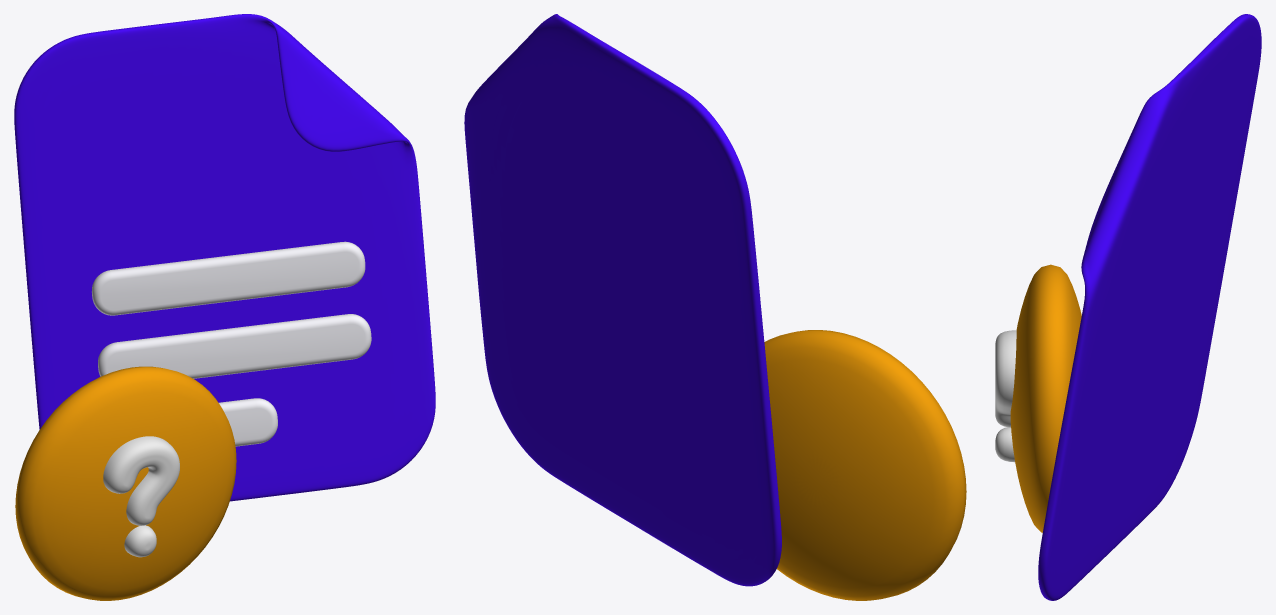
File: unknown-file-3d-animated-icon-488552950417.glb
3 views of the same model, side by side, from view 1: azimuth 30°, elevation 25°; view 2: azimuth 150°, elevation 25°; view 3: azimuth 270°, elevation 25° (orthographic). The views are drawn at different scales.
Visible parts, largest first — view 1: File Base.005, Icon Base.003, Text.007, Unknown Symbol; view 2: File Base.005, Icon Base.003; view 3: File Base.005, Icon Base.003, Unknown Symbol.
Boxes of the visible parts, x1,y1,x2,y2 form: File Base.005: [14, 14, 435, 501]; Icon Base.003: [15, 366, 236, 600]; Text.007: [92, 241, 371, 446]; Unknown Symbol: [103, 436, 179, 557]; File Base.005: [464, 14, 781, 586]; Icon Base.003: [764, 330, 966, 600]; File Base.005: [1038, 14, 1261, 600]; Icon Base.003: [1010, 264, 1081, 532]; Unknown Symbol: [995, 330, 1016, 462].
Bounding box in the file's own units: 1.9 × 2.17 × 0.9738.
